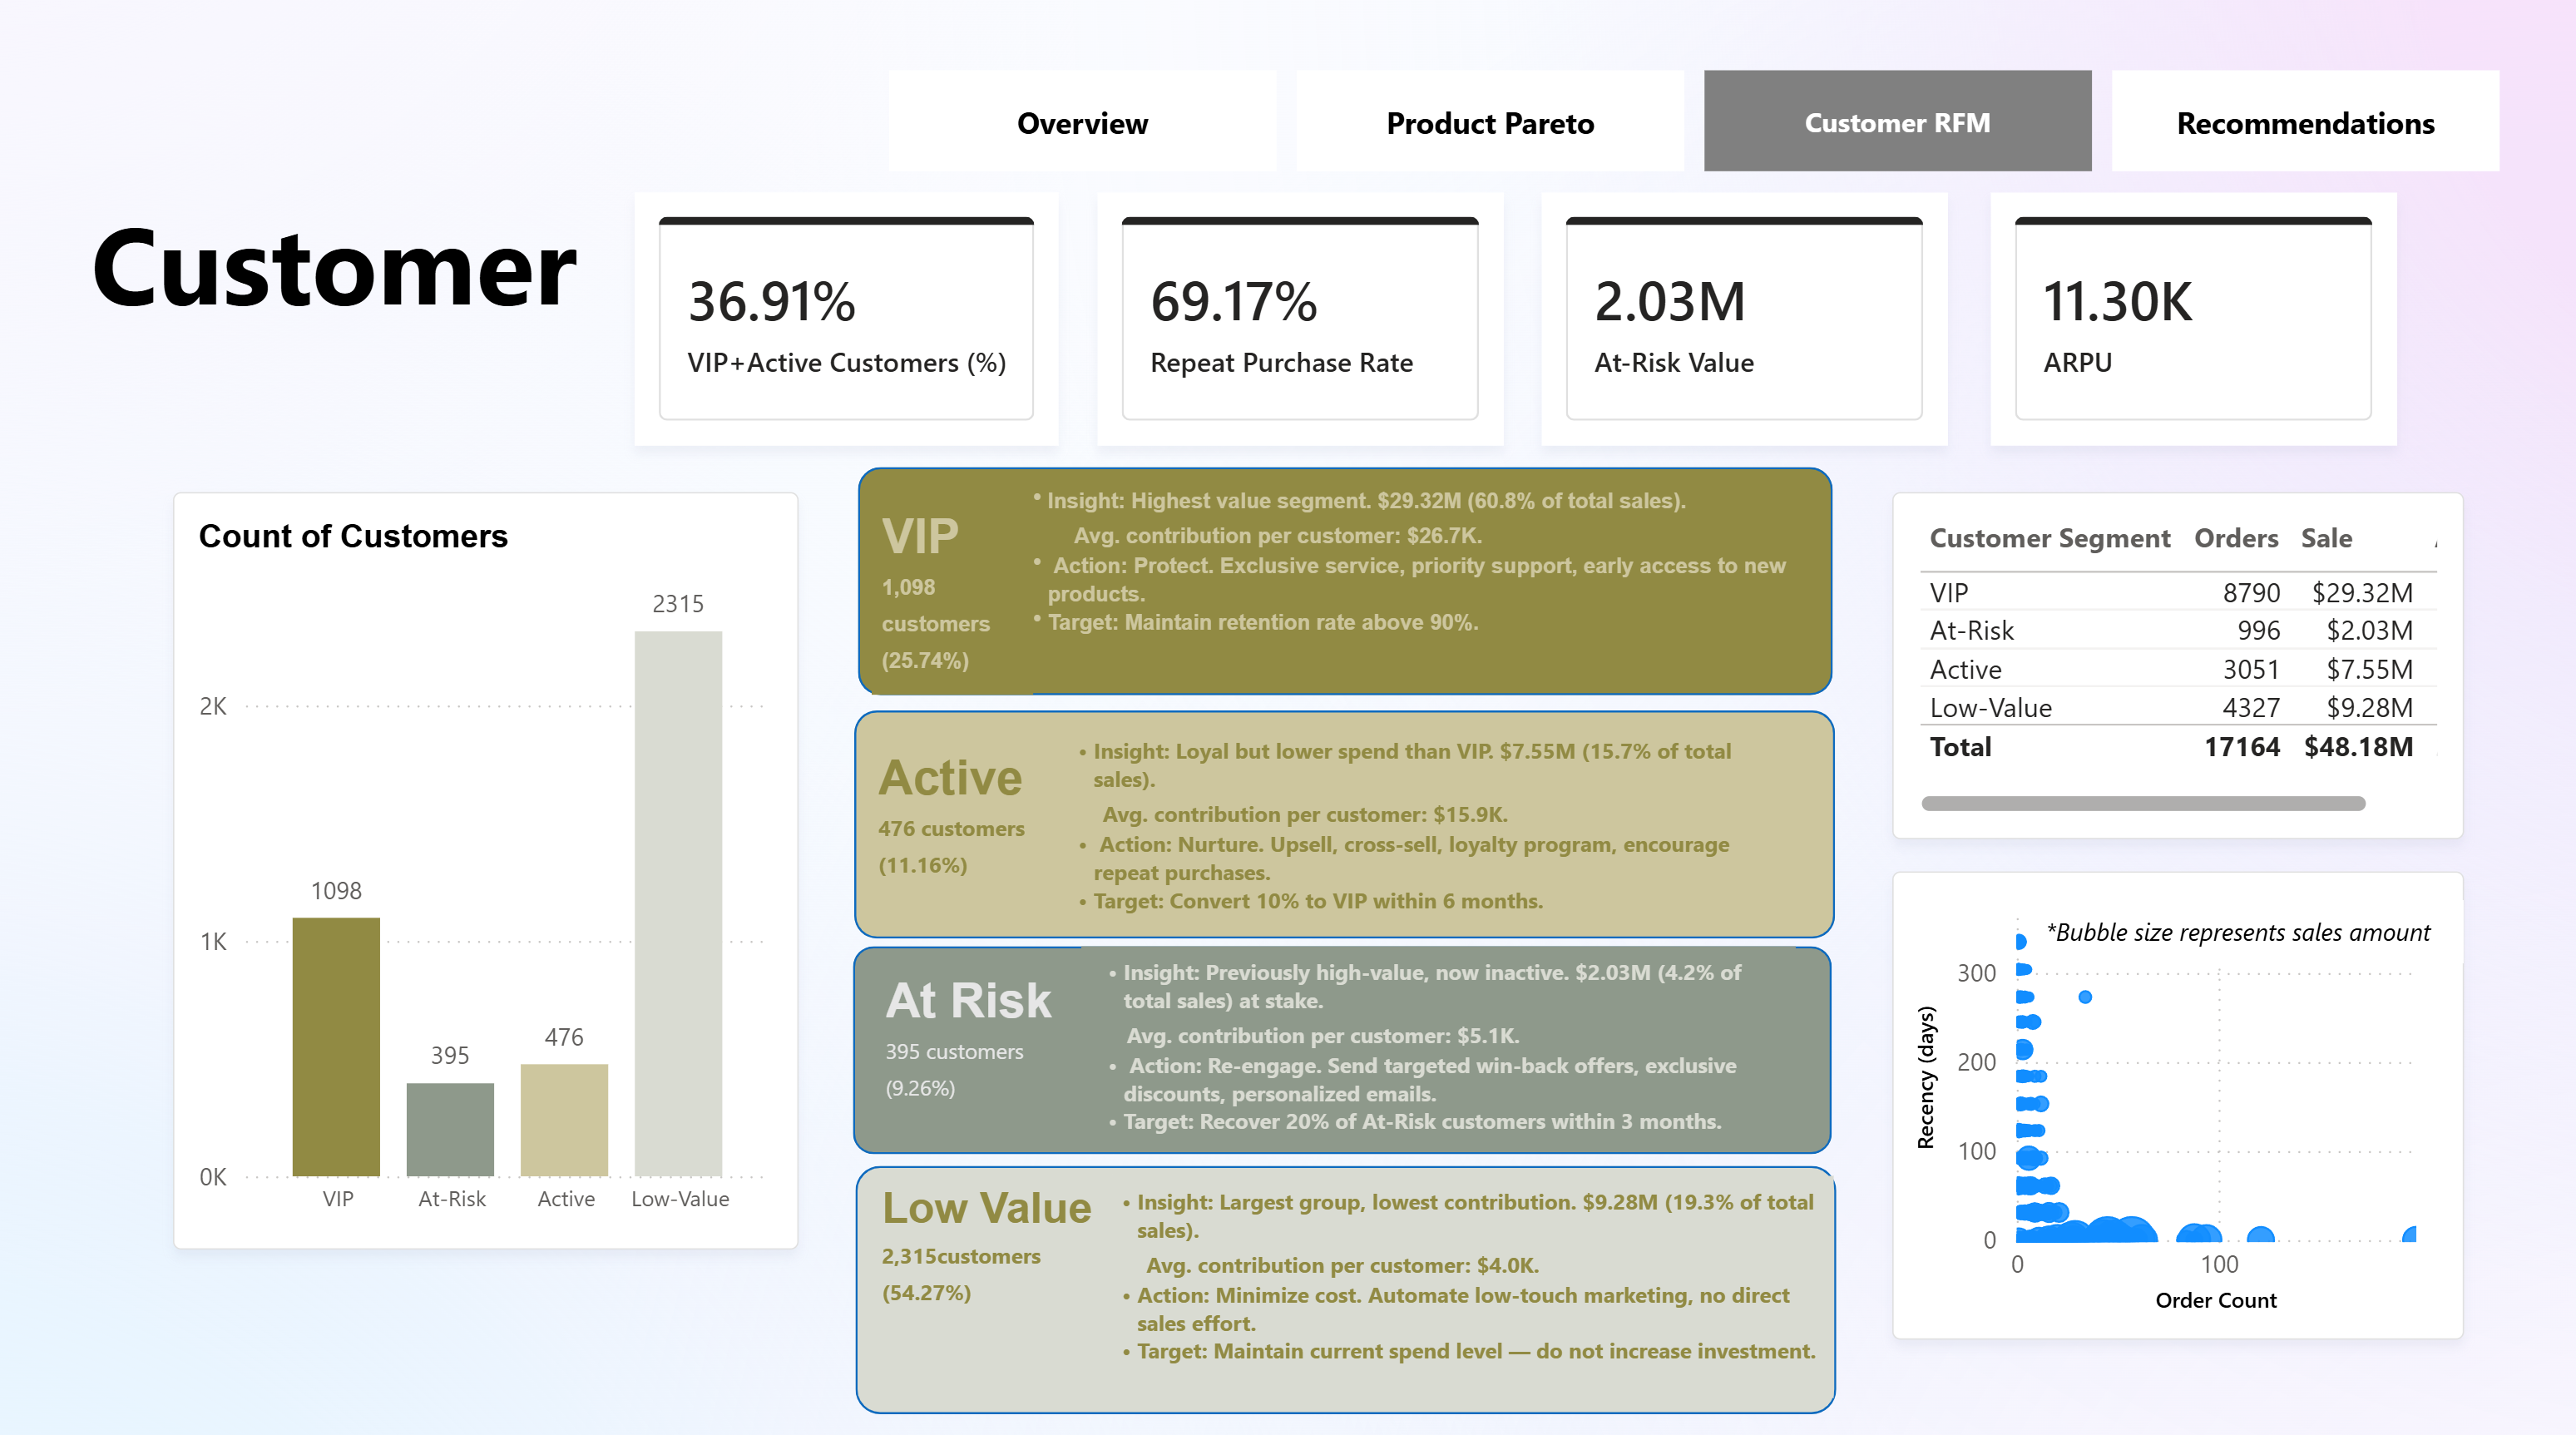

Layout of this report page (visuals, bound fields, positions):
{"tool":"powerbi","page":{"name":"Customer RFM","canvas":[1280,720],"ordinal":2},"visuals":[{"type":"cardVisual","fields":{"Data":["My Measures.% VIP + Active"]},"box":[318,101,210,125],"z":0},{"type":"cardVisual","fields":{"Data":["My Measures.% Repeat Purchase Rate"]},"box":[547,101,201,125],"z":1000},{"type":"cardVisual","fields":{"Data":["My Measures.ARPU"]},"box":[990,101,201,125],"z":2000},{"type":"cardVisual","fields":{"Data":["My Measures.At-Risk Value"]},"box":[767,101,201,125],"z":3000},{"type":"columnChart","title":"Count of Customers","fields":{"Category":["Customer RFM Tier Definition.Customer Segment"],"Y":["CountNonNull(Customer RFM Summary.CustomerNo)"]},"box":[89,249,310,375],"z":4000},{"type":"tableEx","fields":{"Values":["Customer RFM Tier Definition.Customer Segment","My Measures.Order Count (normal)","My Measures.Total Sale","My Measures.Average Order Value"]},"box":[941,249,283,172],"z":5000},{"type":"scatterChart","fields":{"Category":["Sales Transaction.CustomerNo"],"X":["My Measures.Order Count (normal)"],"Y":["My Measures.Recency"],"Size":["My Measures.Total Sale"]},"box":[941,437,283,232],"z":6000},{"type":"textbox","box":[43.3,93.3,297.8,90],"z":7000},{"type":"textbox","box":[1012,451,212,31],"z":8000},{"type":"shape","box":[427,583,486,123],"z":9000},{"type":"textbox","box":[435.5,586.5,119,83],"z":10000},{"type":"textbox","box":[546,588,366,110],"z":11000},{"type":"shape","box":[426.5,357.5,486,113],"z":12000},{"type":"textbox","box":[433.5,371.5,91,78],"z":13000},{"type":"textbox","box":[524.5,364.5,373,99],"z":14000},{"type":"shape","box":[428.5,236.5,483,113],"z":15000},{"type":"textbox","box":[435.5,252.5,80,97],"z":16000},{"type":"textbox","box":[501.5,240.5,395,100],"z":17000},{"type":"shape","box":[426,474,485,103],"z":18000},{"type":"textbox","box":[437,482,108,82],"z":19000},{"type":"textbox","box":[539,474,354,102],"z":20000},{"type":"pageNavigator","box":[444,40,800,50],"z":21000}]}

Visuals, with their boxes in screenshot pixels (x1, y1, x2, y2), scaled from the page's 1280x720 canvas onto the 2576x1435 screenshot:
cardVisual - My Measures.% VIP + Active: [640, 201, 1063, 450]
cardVisual - My Measures.% Repeat Purchase Rate: [1100, 201, 1506, 450]
cardVisual - My Measures.ARPU: [1992, 201, 2397, 450]
cardVisual - My Measures.At-Risk Value: [1544, 201, 1948, 450]
"Count of Customers" columnChart: [179, 497, 803, 1244]
tableEx - Customer RFM Tier Definition.Customer Segment x My Measures.Order Count (normal): [1894, 497, 2464, 839]
scatterChart - Sales Transaction.CustomerNo x My Measures.Order Count (normal): [1894, 871, 2464, 1334]
textbox: [87, 186, 686, 365]
textbox: [2037, 899, 2464, 961]
shape: [859, 1162, 1837, 1407]
textbox: [877, 1169, 1116, 1334]
textbox: [1099, 1172, 1836, 1391]
shape: [858, 713, 1837, 938]
textbox: [873, 740, 1056, 896]
textbox: [1056, 726, 1807, 923]
shape: [863, 472, 1834, 696]
textbox: [877, 503, 1037, 696]
textbox: [1009, 479, 1804, 679]
shape: [858, 945, 1833, 1150]
textbox: [879, 961, 1097, 1124]
textbox: [1085, 945, 1797, 1148]
pageNavigator: [893, 80, 2504, 180]
